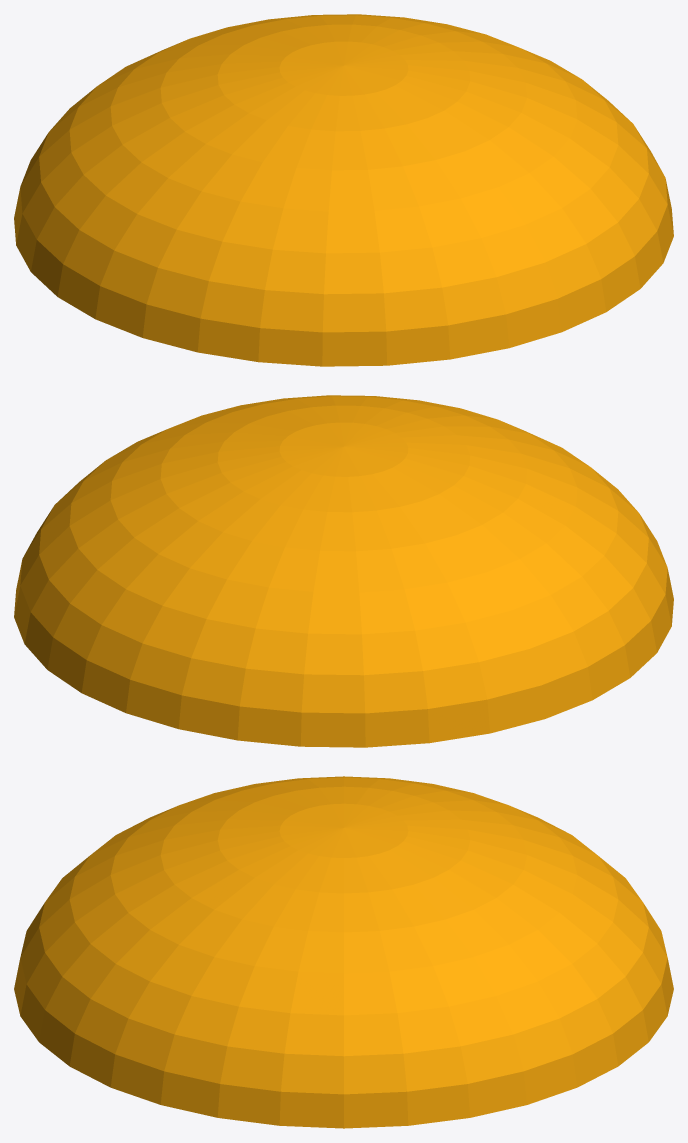
Rendered from TopBun.fbx.
The picture shows the model from 3 angles, top to bottom: view 1: azimuth 30°, elevation 25°; view 2: azimuth 150°, elevation 25°; view 3: azimuth 270°, elevation 25°; orthographic projection.
Parts seen in each view (by area): view 1: Sphere; view 2: Sphere; view 3: Sphere.
Boxes of the visible parts, x1,y1,x2,y2 form: Sphere: [14, 14, 673, 366]; Sphere: [14, 395, 673, 747]; Sphere: [14, 776, 673, 1128].
Size of the model in its own units: 174 by 46.8 by 174.
